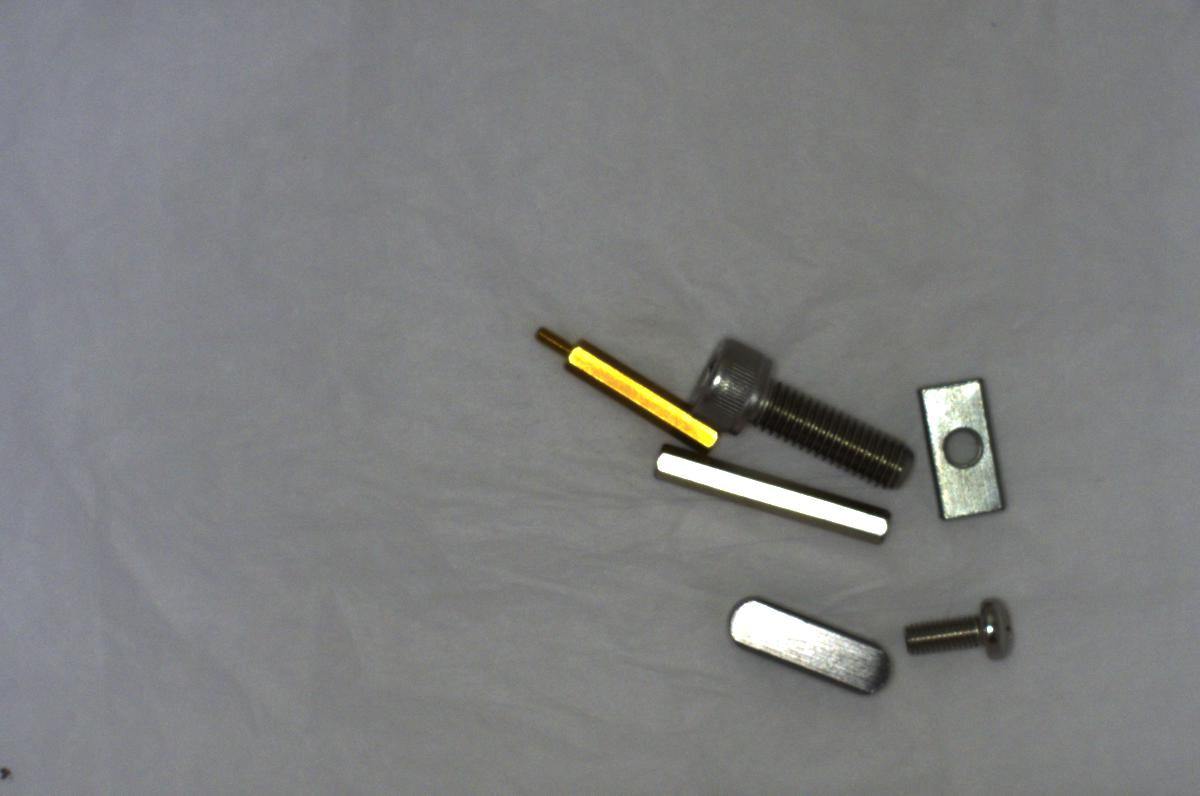Double hexagonal column: (648, 442, 902, 544)
Hexagon pillar: (523, 314, 725, 448)
Hexagon screw: (683, 327, 917, 489)
Keybar: (714, 591, 898, 698)
Rectangular nut: (915, 368, 1021, 533)
Round head screw: (896, 580, 1026, 672)
